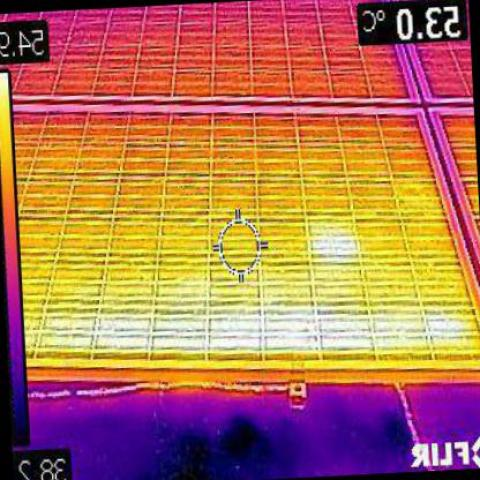fault: (59, 314, 411, 352), (307, 228, 355, 257)
